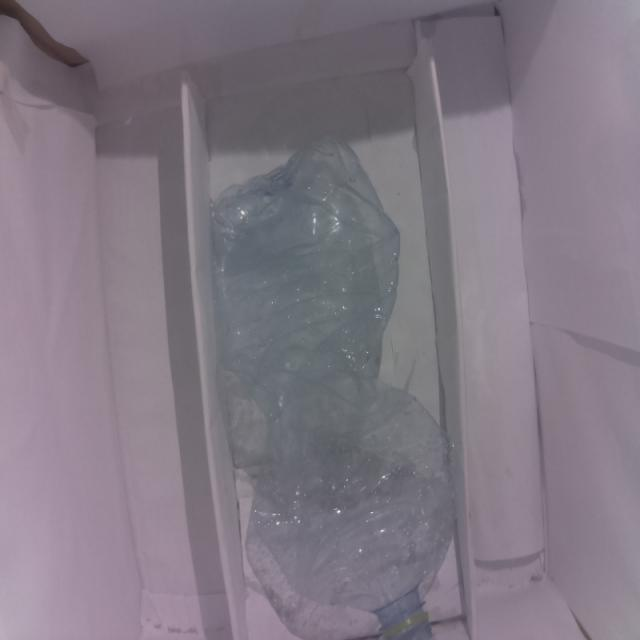plastic: (209, 140, 455, 640)
